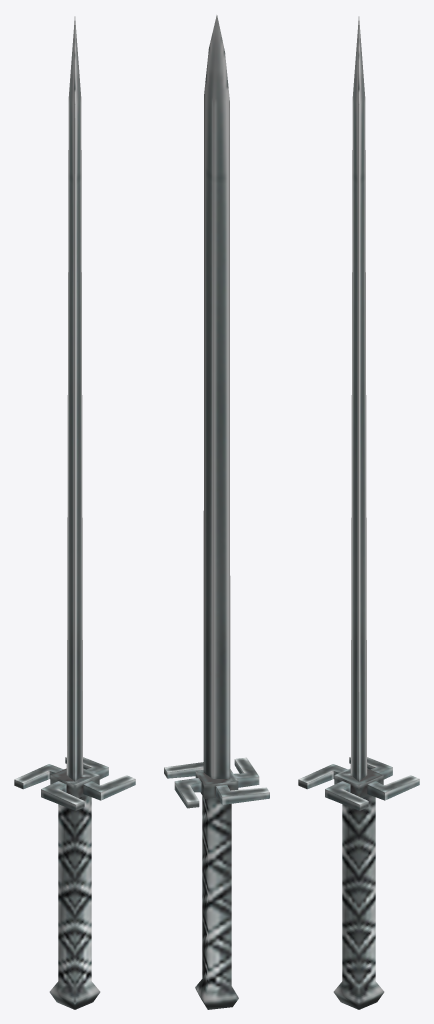
Rendered from Sword18.FBX.
The picture shows the model from 3 angles, left to right: view 1: azimuth 90°, elevation 25°; view 2: azimuth 150°, elevation 25°; view 3: azimuth 270°, elevation 25°; orthographic projection.
Visible parts, largest first — view 1: Sword18; view 2: Sword18; view 3: Sword18.
Boxes of the visible parts, left/top/right/bottom form: Sword18: left=14, top=16, right=135, bottom=1009; Sword18: left=164, top=15, right=269, bottom=1009; Sword18: left=298, top=16, right=419, bottom=1009.
Size of the model in its own units: 11.58 by 104 by 11.58.
